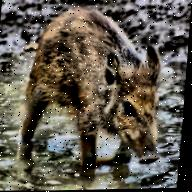boar: (18, 1, 179, 178)
